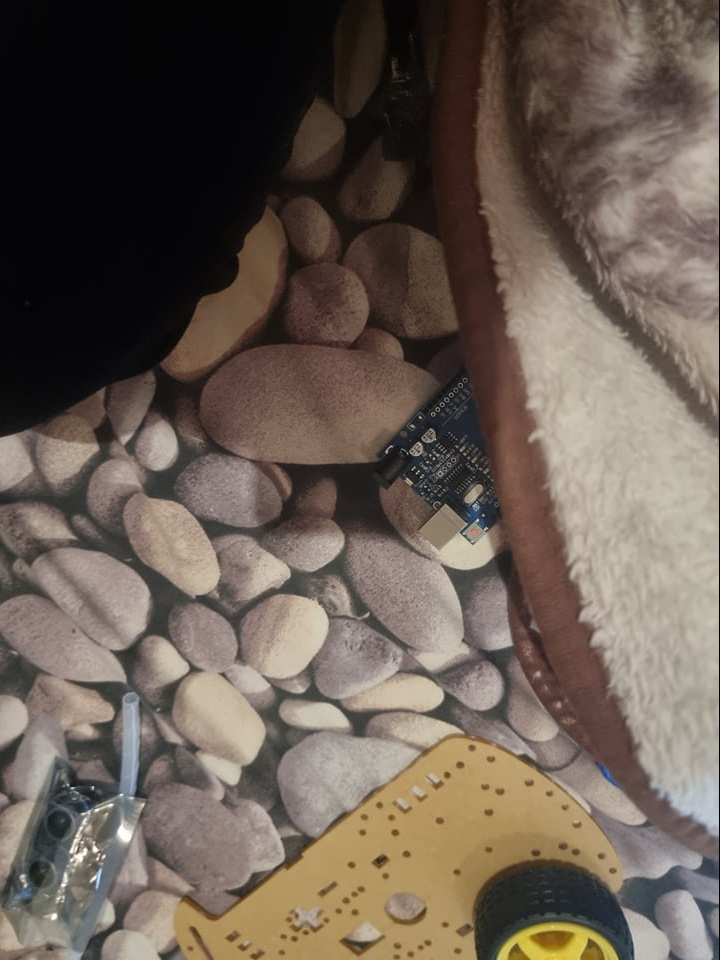5V EXPANSION: (372, 364, 509, 548)
SENSOR: (23, 795, 93, 899)
